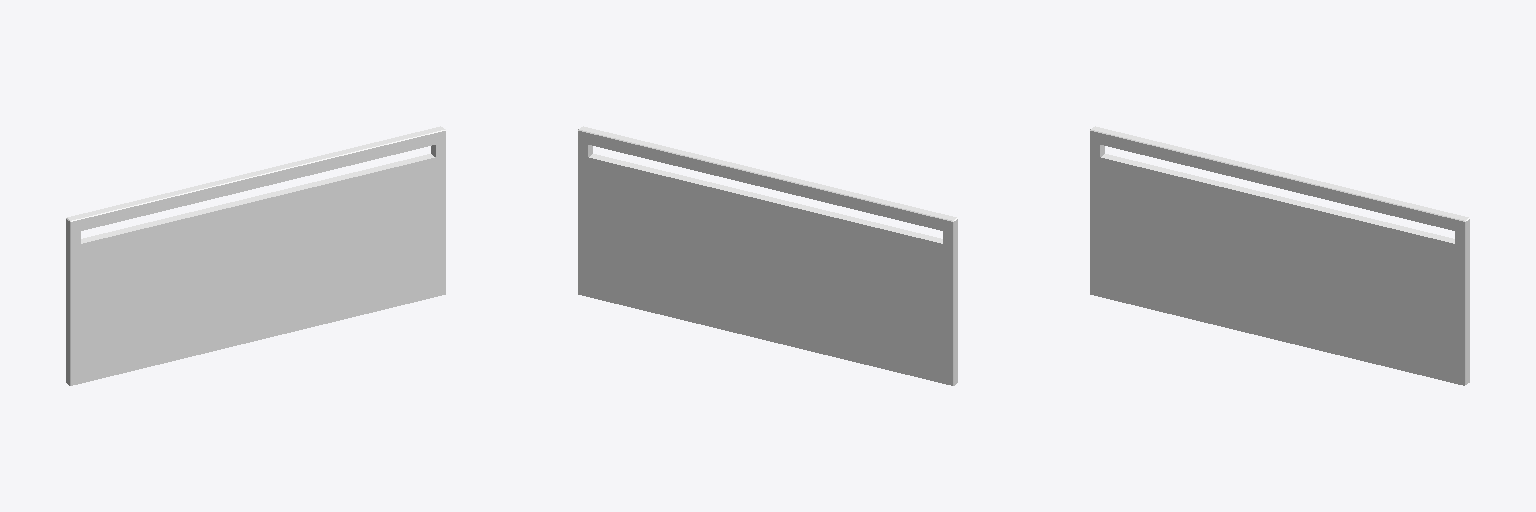
3 renders of one model, left to right at view 1: azimuth 30°, elevation 25°; view 2: azimuth 150°, elevation 25°; view 3: azimuth 330°, elevation 25°, orthographic.
Visible parts, largest first — view 1: aws_RoomWall_01_visualMesh; view 2: aws_RoomWall_01_visualMesh; view 3: aws_RoomWall_01_visualMesh.
Boxes of the visible parts, box(x1,y1,x2,y2) form: aws_RoomWall_01_visualMesh: box(66, 126, 445, 385); aws_RoomWall_01_visualMesh: box(578, 126, 957, 385); aws_RoomWall_01_visualMesh: box(1090, 126, 1469, 385).
Bounding box in the file's own units: 4.43 × 1.86 × 0.1048.